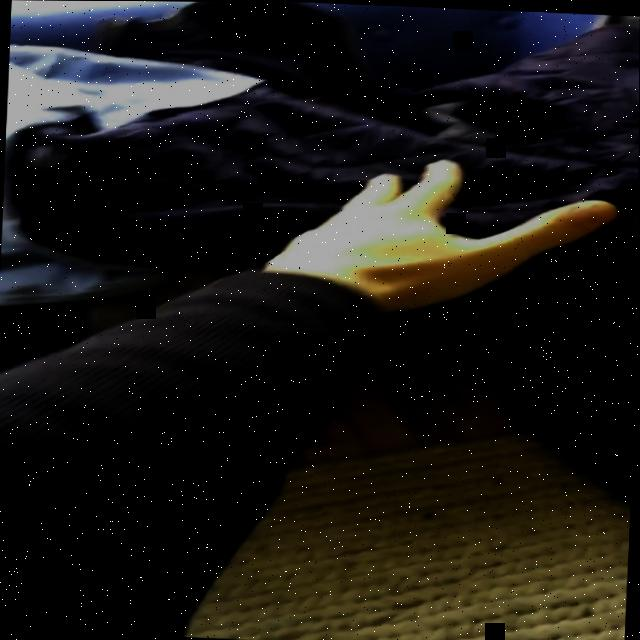Paper: (275, 151, 620, 318)
